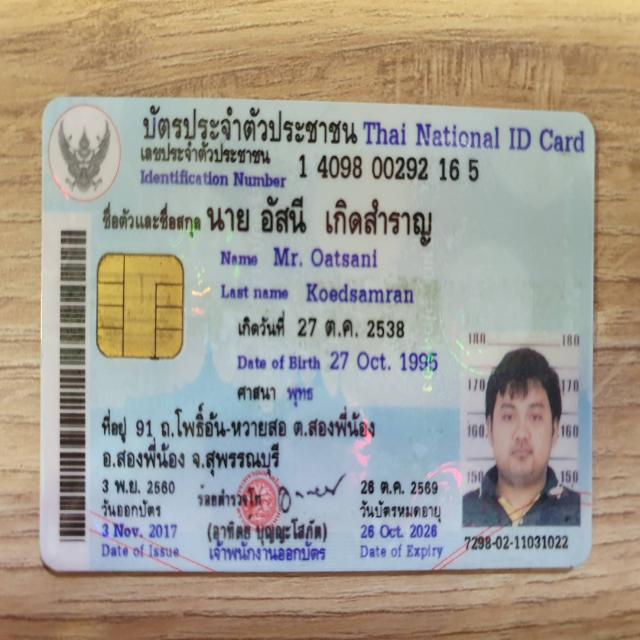Address_th: (93, 400, 385, 477)
Date_of_Birth: (322, 338, 452, 383)
Date_of_Expiry: (355, 520, 446, 540)
First_Name: (265, 238, 386, 275)
ID_Number: (291, 149, 488, 189)
Image: (461, 332, 583, 526)
Last_Name: (296, 276, 422, 313)
Thai_Name: (202, 190, 440, 248)
